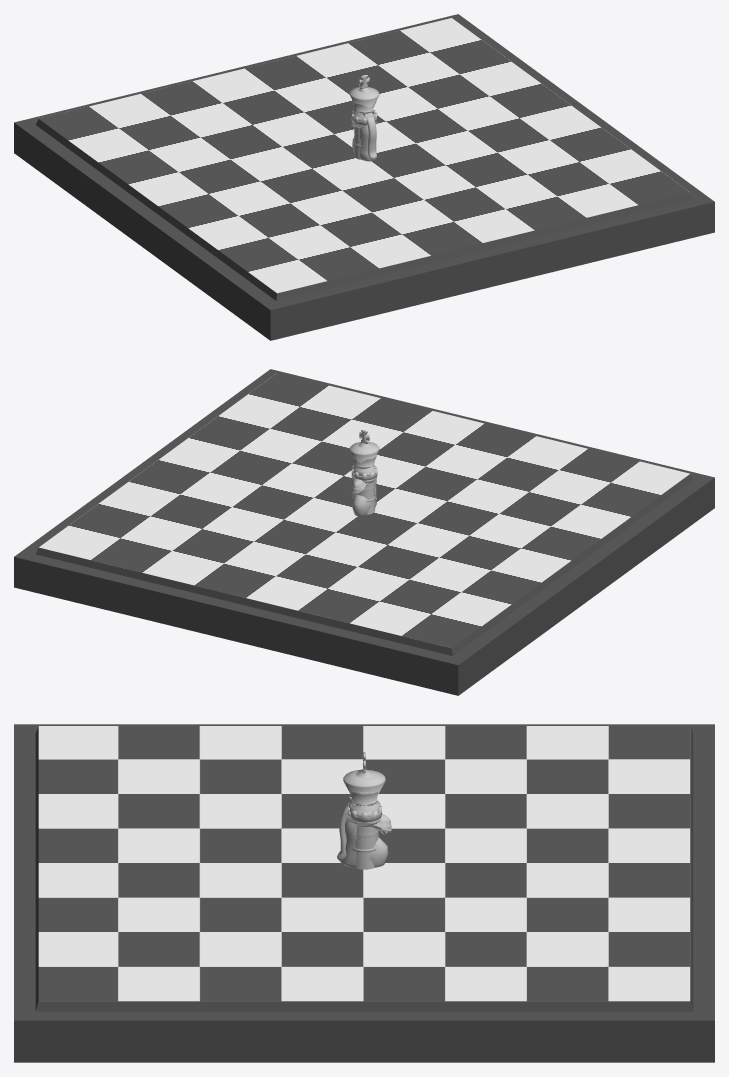
File: chess.fbx
3 views of the same model, one above another, from view 1: azimuth 30°, elevation 25°; view 2: azimuth 150°, elevation 25°; view 3: azimuth 270°, elevation 25° (orthographic). The views are drawn at different scales.
Visible parts, largest first — view 1: Board, B_King; view 2: Board, B_King; view 3: Board, W_Knight, B_Rook, B_King, B_Knight.
Boxes of the visible parts, x1=… form: Board: x1=14, y1=14, x2=714, y2=340; B_King: x1=349, y1=75, x2=379, y2=121; Board: x1=14, y1=369, x2=714, y2=695; B_King: x1=349, y1=430, x2=379, y2=476; Board: x1=14, y1=724, x2=714, y2=1062; W_Knight: x1=337, y1=796, x2=391, y2=864; B_Rook: x1=347, y1=801, x2=381, y2=869; B_King: x1=343, y1=752, x2=385, y2=816; B_Knight: x1=337, y1=797, x2=391, y2=867.
Bounding box in the file's own units: 1 × 1 × 0.2533.
